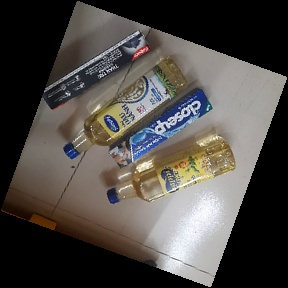CloseUp Tuyet: (108, 86, 214, 169)
Colgate Than: (39, 30, 152, 108)
Happy Soya: (105, 136, 236, 206)
Simply: (61, 54, 191, 160)
